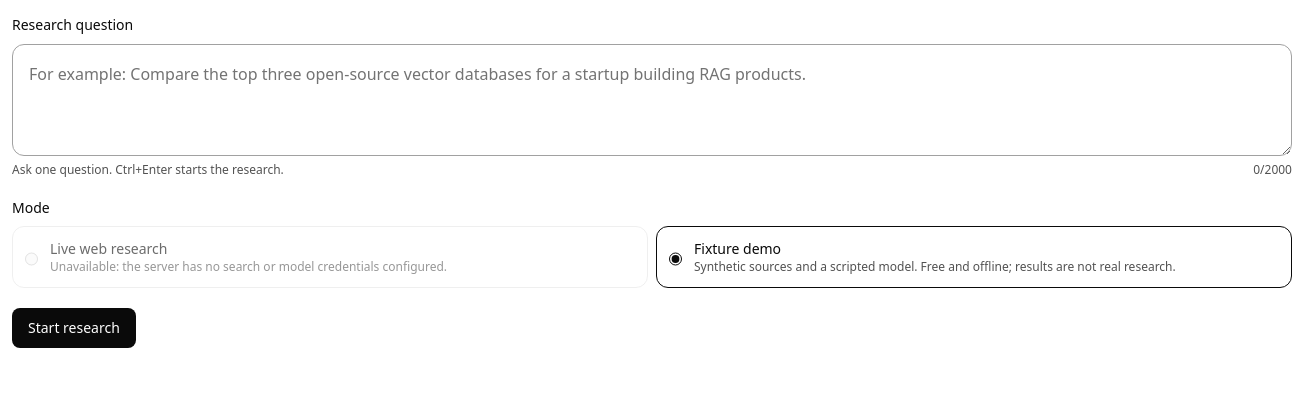
QuestionForm › shows a validation error as an alert and does not submit
The image size is (1304, 409).
Type "short" into the text box labelled "Research question" at (652, 100), box [12,44,1292,156]
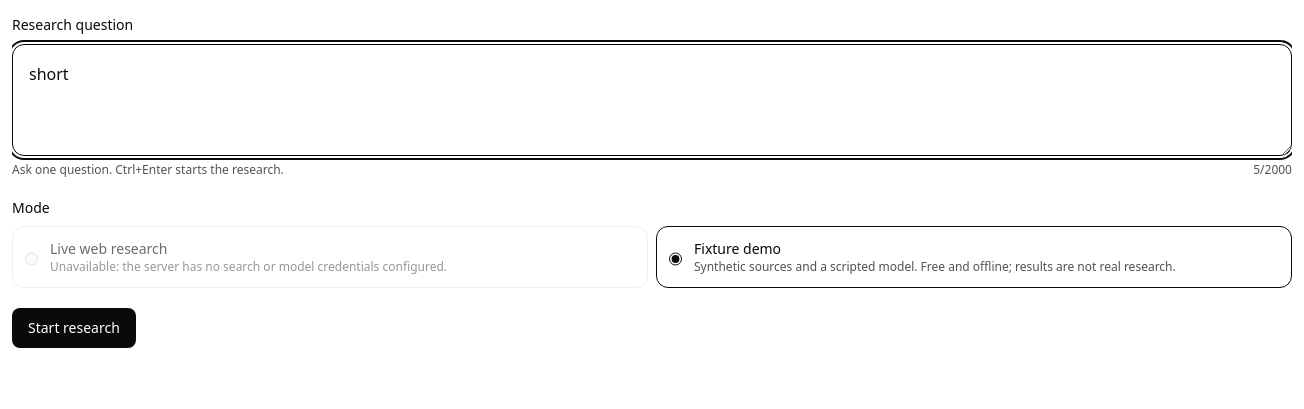
Click the button "Start research" at (74, 328), box [12,308,136,348]
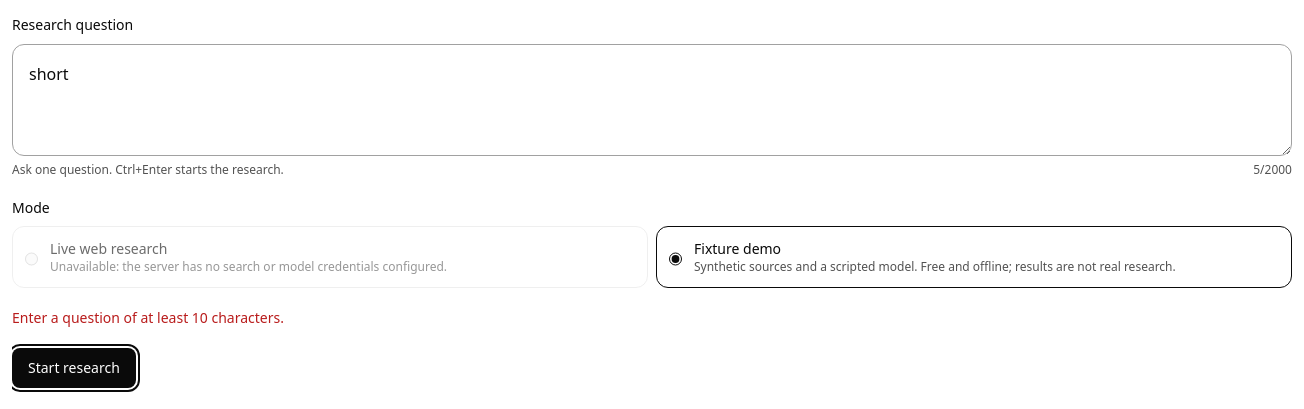
expect the message reads "Enter a question of at least 10 characters.": met, box [12,308,284,327]
